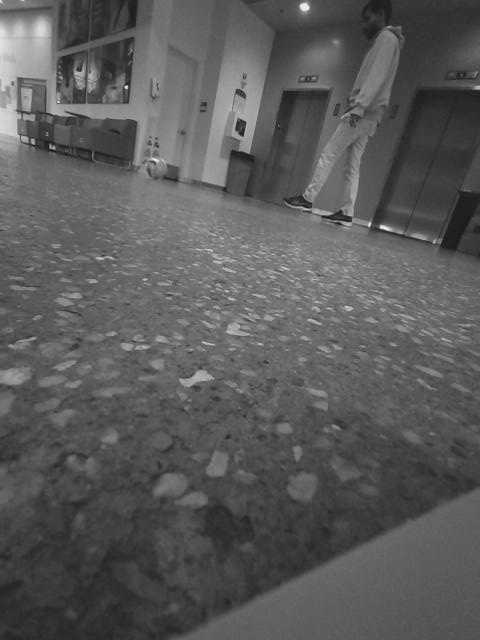ball: (143, 154, 170, 181)
